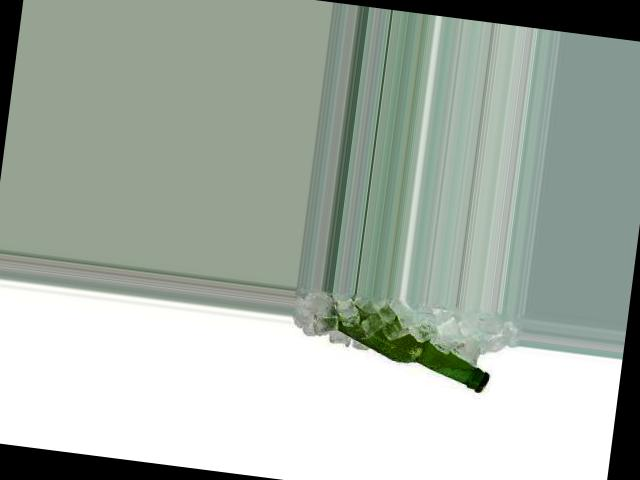beer: (321, 312, 497, 392)
